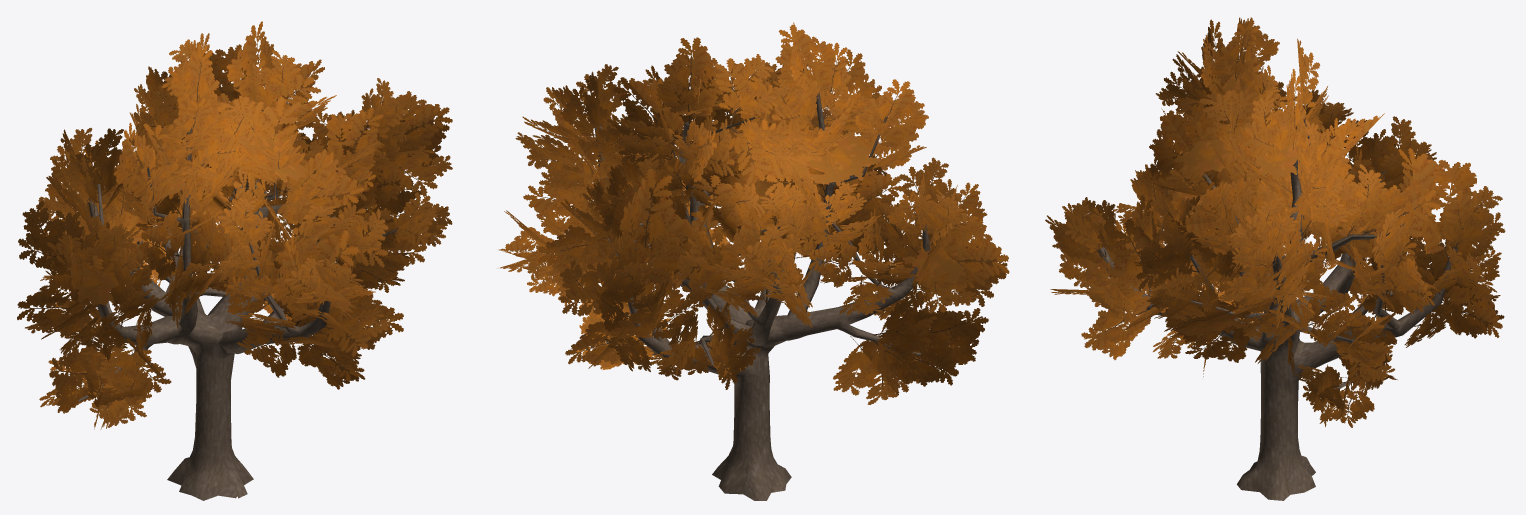
3 renders of one model, left to right at view 1: azimuth 30°, elevation 25°; view 2: azimuth 150°, elevation 25°; view 3: azimuth 270°, elevation 25°, orthographic.
Parts seen in each view (by area): view 1: body0_model0_lod0_mesh0; view 2: body0_model0_lod0_mesh0; view 3: body0_model0_lod0_mesh0.
Part boxes in pixels (x1=…): body0_model0_lod0_mesh0: x1=17, y1=21, x2=452, y2=500; body0_model0_lod0_mesh0: x1=499, y1=22, x2=1009, y2=500; body0_model0_lod0_mesh0: x1=1045, y1=17, x2=1505, y2=500.
Size of the model in its own units: 789 by 740 by 695.
Materials: 1 (1 with a texture image).
